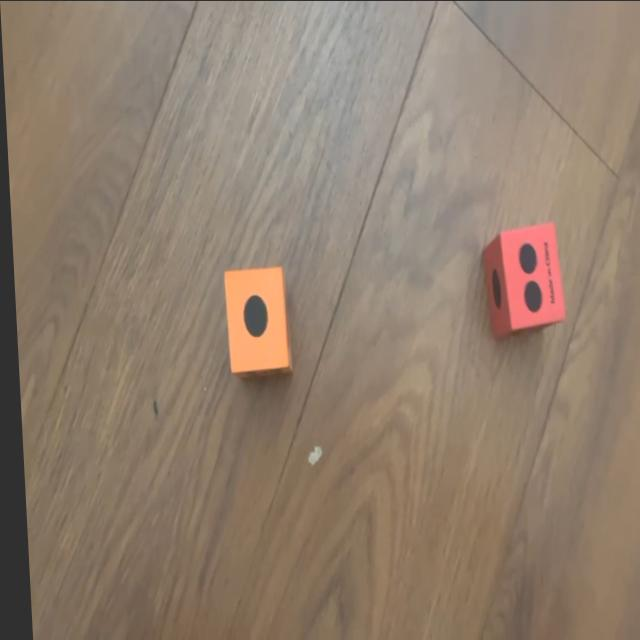cube: (477, 224, 562, 336)
